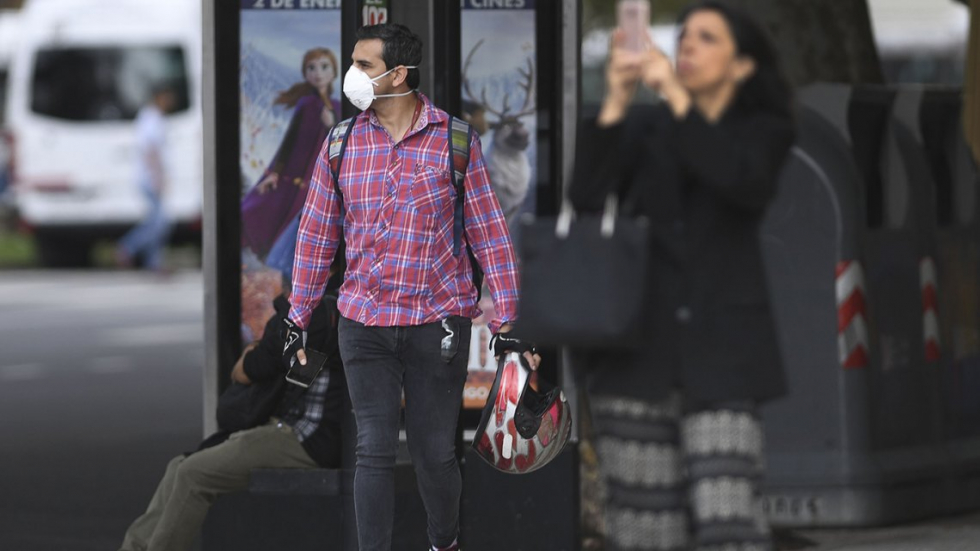barbijo: (341, 61, 384, 111)
